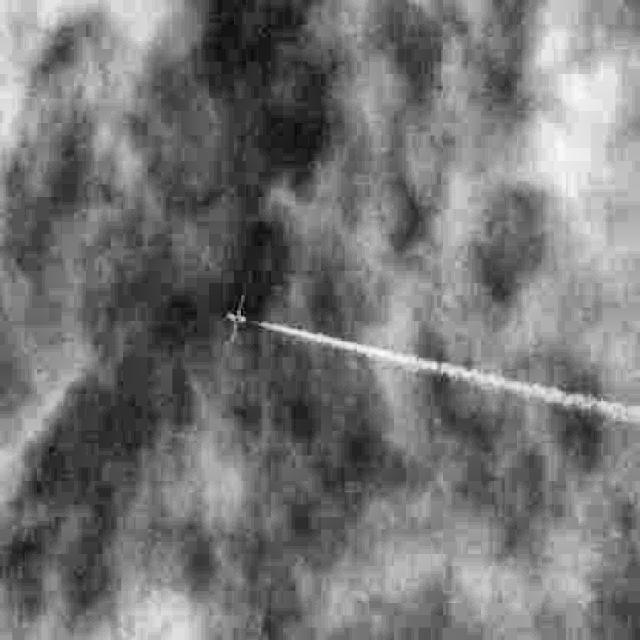RQ4: (226, 290, 248, 345)
